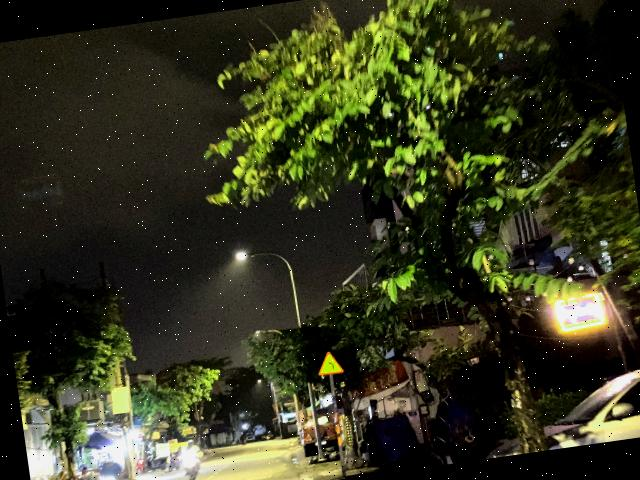cho-ngoat-nguy-hiem-ben-trai: (315, 349, 344, 376)
